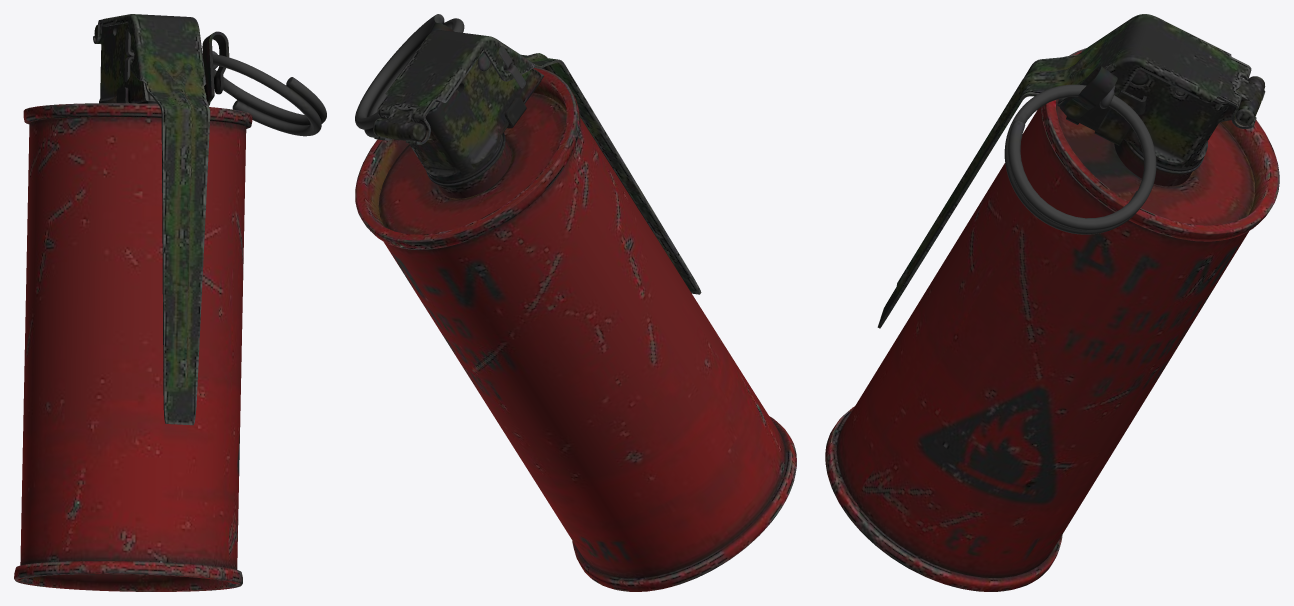
File: p_incendiary.glb
3 renders of one model, left to right at view 1: azimuth 30°, elevation 25°; view 2: azimuth 150°, elevation 25°; view 3: azimuth 270°, elevation 25°, orthographic. The views are drawn at different scales.
Visible parts, largest first — view 1: p_incendiary; view 2: p_incendiary; view 3: p_incendiary.
Part boxes in pixels (x1,y1,x2,y2): p_incendiary: (14, 14, 326, 591); p_incendiary: (355, 14, 796, 591); p_incendiary: (825, 14, 1279, 591).
Size of the model in its own units: 0.1206 by 0.1795 by 0.1245.
1 material, 1 textured.
